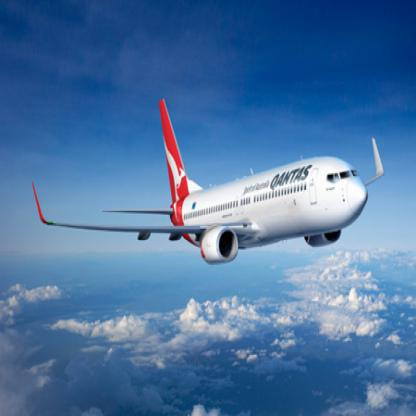CIV_Plane: (21, 94, 387, 268)
